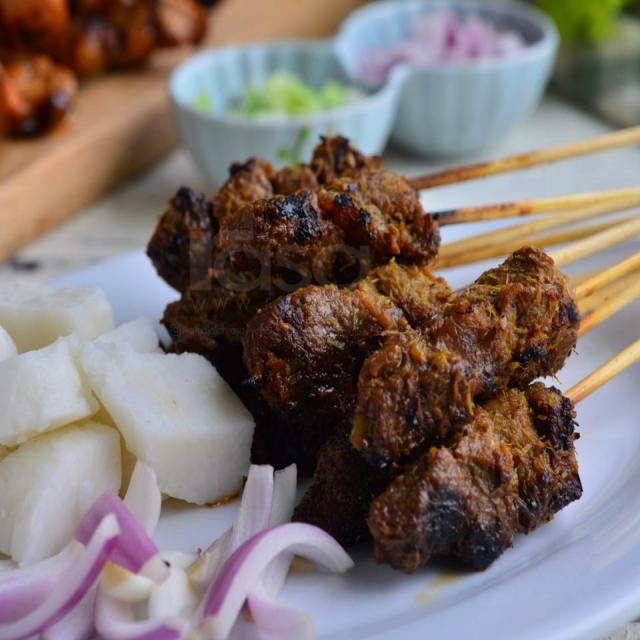Sate: (139, 112, 640, 557)
